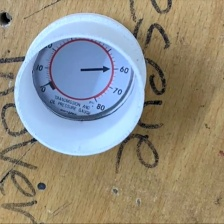gauge: (33, 37, 134, 120)
